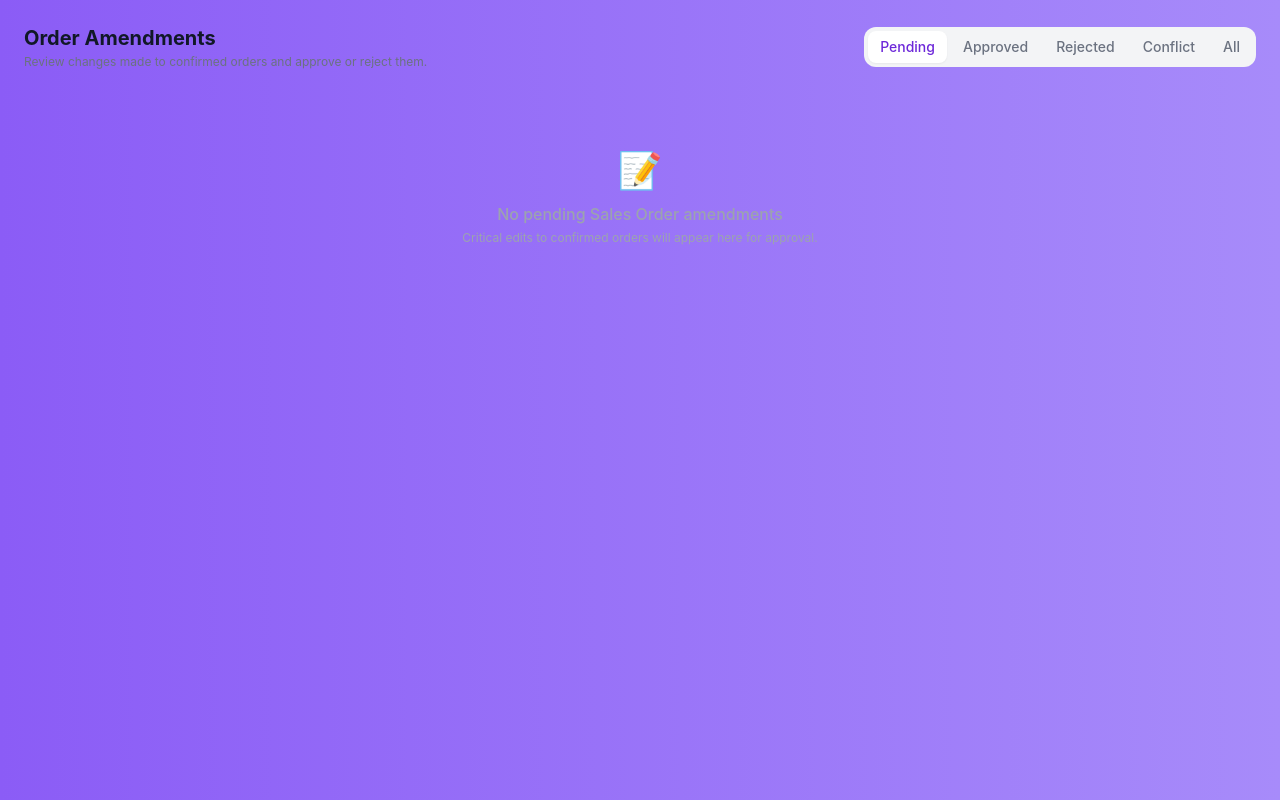
Test: OrderAmendmentsPage — Manager Rebase UI entry points › 1. a 'conflict' amendment shows Review Conflict, not the old dead-end-only message, when the manager is an approver
Expected: the text "No pending Sales Order amendments" is shown, [497,204,783,224]
Click the button "All" at (1232, 47), box [1211,31,1252,63]
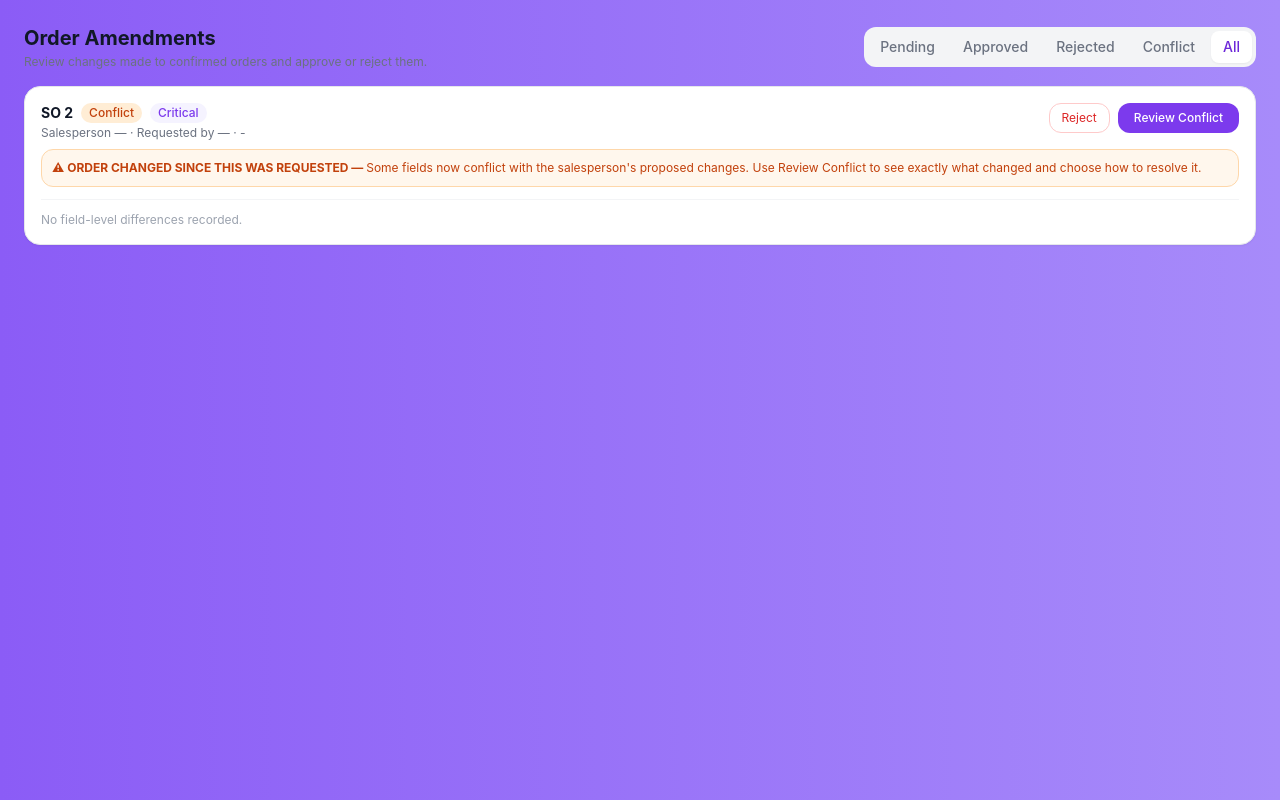
Expected: the button "Review Conflict" is shown, [1118,103,1239,133]
